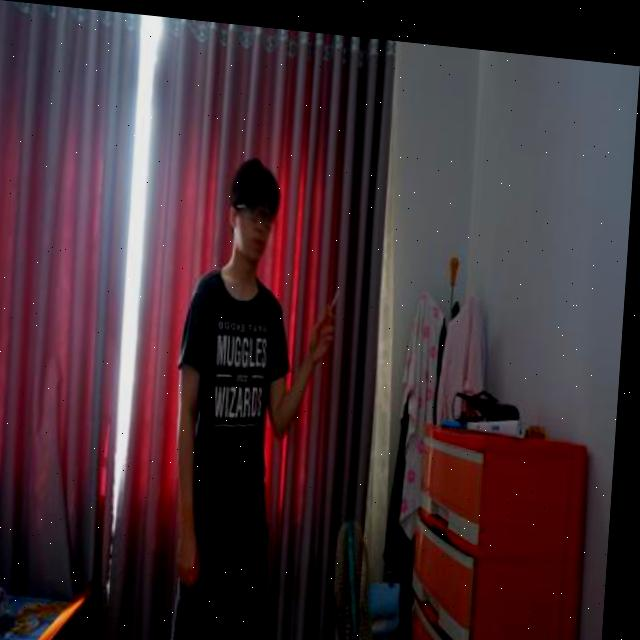cigarette: (333, 281, 343, 305)
